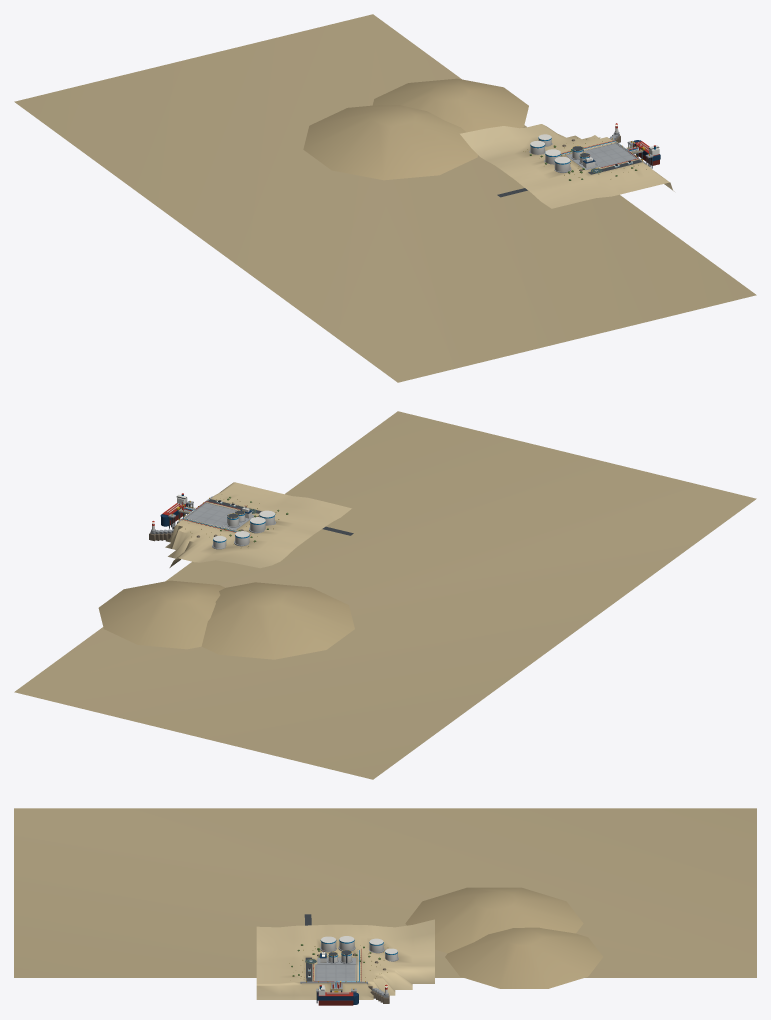
The picture shows the model from 3 angles, top to bottom: view 1: azimuth 30°, elevation 25°; view 2: azimuth 150°, elevation 25°; view 3: azimuth 270°, elevation 25°; orthographic projection. The views are drawn at different scales.
Visible parts, largest first — view 1: onshore_terrain, platform_base; view 2: onshore_terrain, platform_base; view 3: onshore_terrain, platform_base.
Part boxes in pixels (x1,y1,x2,y2): onshore_terrain: [14, 14, 756, 382]; platform_base: [460, 123, 674, 208]; onshore_terrain: [14, 411, 756, 779]; platform_base: [149, 482, 353, 568]; onshore_terrain: [14, 808, 756, 988]; platform_base: [256, 914, 434, 1005].
Size of the model in its own units: 94.71 by 5.53 by 150.
